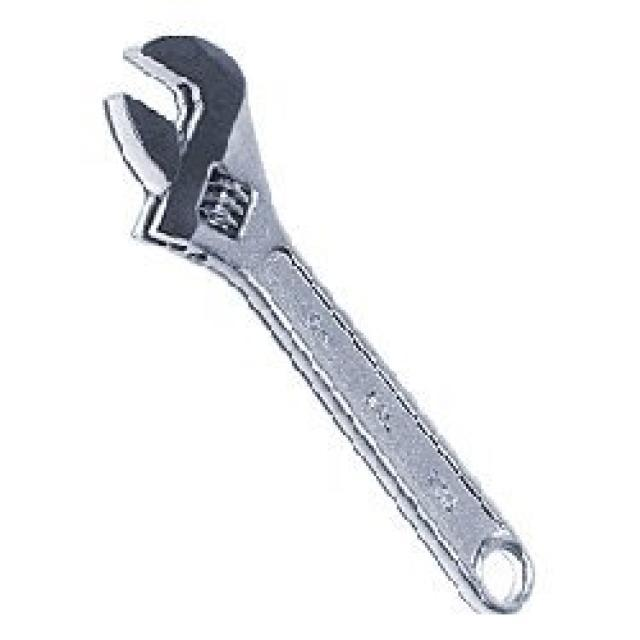wrench: (95, 25, 547, 626)
